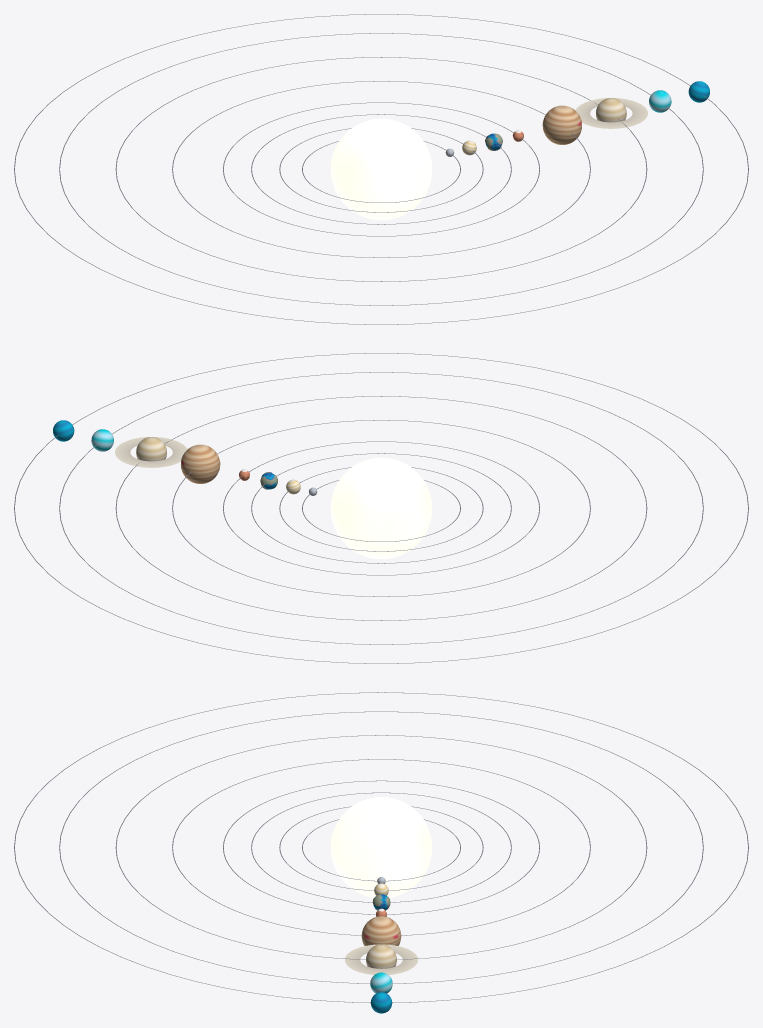
Rendered from MODELO-002.glb.
3 views of the same model, one above another, from view 1: azimuth 30°, elevation 25°; view 2: azimuth 150°, elevation 25°; view 3: azimuth 270°, elevation 25° (orthographic).
Parts seen in each view (by area): view 1: Sun, Orbit_Neptune, Orbit_Uranus, Orbit_Saturn, Jupiter, SaturnRings, Orbit_Jupiter, Orbit_Mars, Orbit_Earth, Saturn; view 2: Sun, Orbit_Neptune, Orbit_Uranus, Orbit_Saturn, Jupiter, SaturnRings, Orbit_Jupiter, Orbit_Mars, Orbit_Earth, Saturn; view 3: Sun, Orbit_Neptune, Orbit_Uranus, Orbit_Saturn, SaturnRings, Orbit_Jupiter, Jupiter, Orbit_Mars, Orbit_Earth, Saturn.
Part boxes in pixels (bbox=[...]): Sun: bbox=[330, 118, 432, 220]; Orbit_Neptune: bbox=[14, 14, 748, 324]; Orbit_Uranus: bbox=[59, 33, 703, 305]; Orbit_Saturn: bbox=[115, 57, 647, 281]; Jupiter: bbox=[542, 105, 581, 144]; SaturnRings: bbox=[575, 98, 647, 128]; Orbit_Jupiter: bbox=[172, 81, 590, 257]; Orbit_Mars: bbox=[223, 102, 539, 236]; Orbit_Earth: bbox=[251, 114, 511, 224]; Saturn: bbox=[596, 98, 626, 122]; Sun: bbox=[330, 457, 432, 559]; Orbit_Neptune: bbox=[14, 353, 748, 663]; Orbit_Uranus: bbox=[59, 372, 703, 644]; Orbit_Saturn: bbox=[115, 396, 647, 620]; Jupiter: bbox=[181, 444, 220, 483]; SaturnRings: bbox=[115, 437, 187, 467]; Orbit_Jupiter: bbox=[172, 420, 590, 596]; Orbit_Mars: bbox=[223, 441, 539, 575]; Orbit_Earth: bbox=[251, 453, 511, 563]; Saturn: bbox=[136, 437, 166, 461]; Sun: bbox=[330, 797, 432, 897]; Orbit_Neptune: bbox=[14, 692, 748, 1002]; Orbit_Uranus: bbox=[59, 711, 703, 983]; Orbit_Saturn: bbox=[115, 735, 647, 959]; SaturnRings: bbox=[345, 944, 417, 974]; Orbit_Jupiter: bbox=[172, 759, 590, 935]; Jupiter: bbox=[361, 916, 401, 945]; Orbit_Mars: bbox=[223, 780, 539, 914]; Orbit_Earth: bbox=[251, 792, 511, 902]; Saturn: bbox=[366, 944, 396, 968].
Size of the model in its own units: 26.4 by 3.6 by 26.03.
